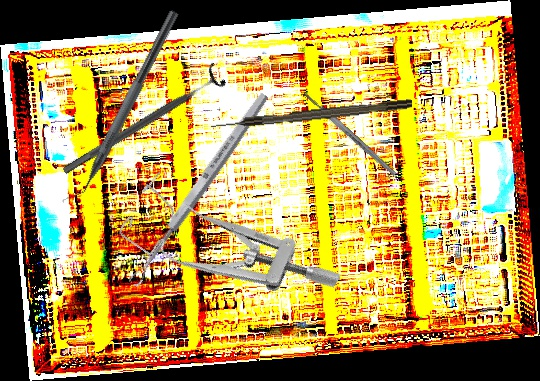Chopper: (59, 2, 180, 213)
Fixation Ring: (56, 61, 228, 183)
Hook Surgical: (210, 98, 413, 132)
Scalpel Handle: (301, 89, 398, 179)
Speculum: (113, 153, 344, 353)
Surgical Spoon: (126, 90, 271, 289)
